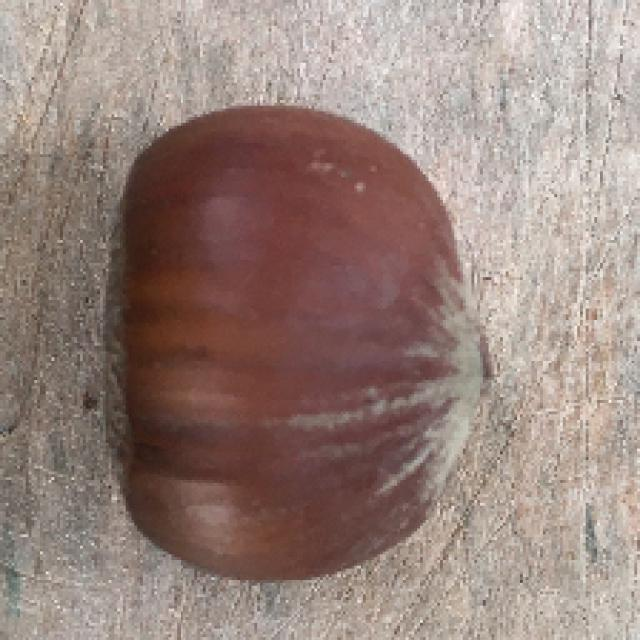qualityHazelnut: (95, 106, 498, 578)
